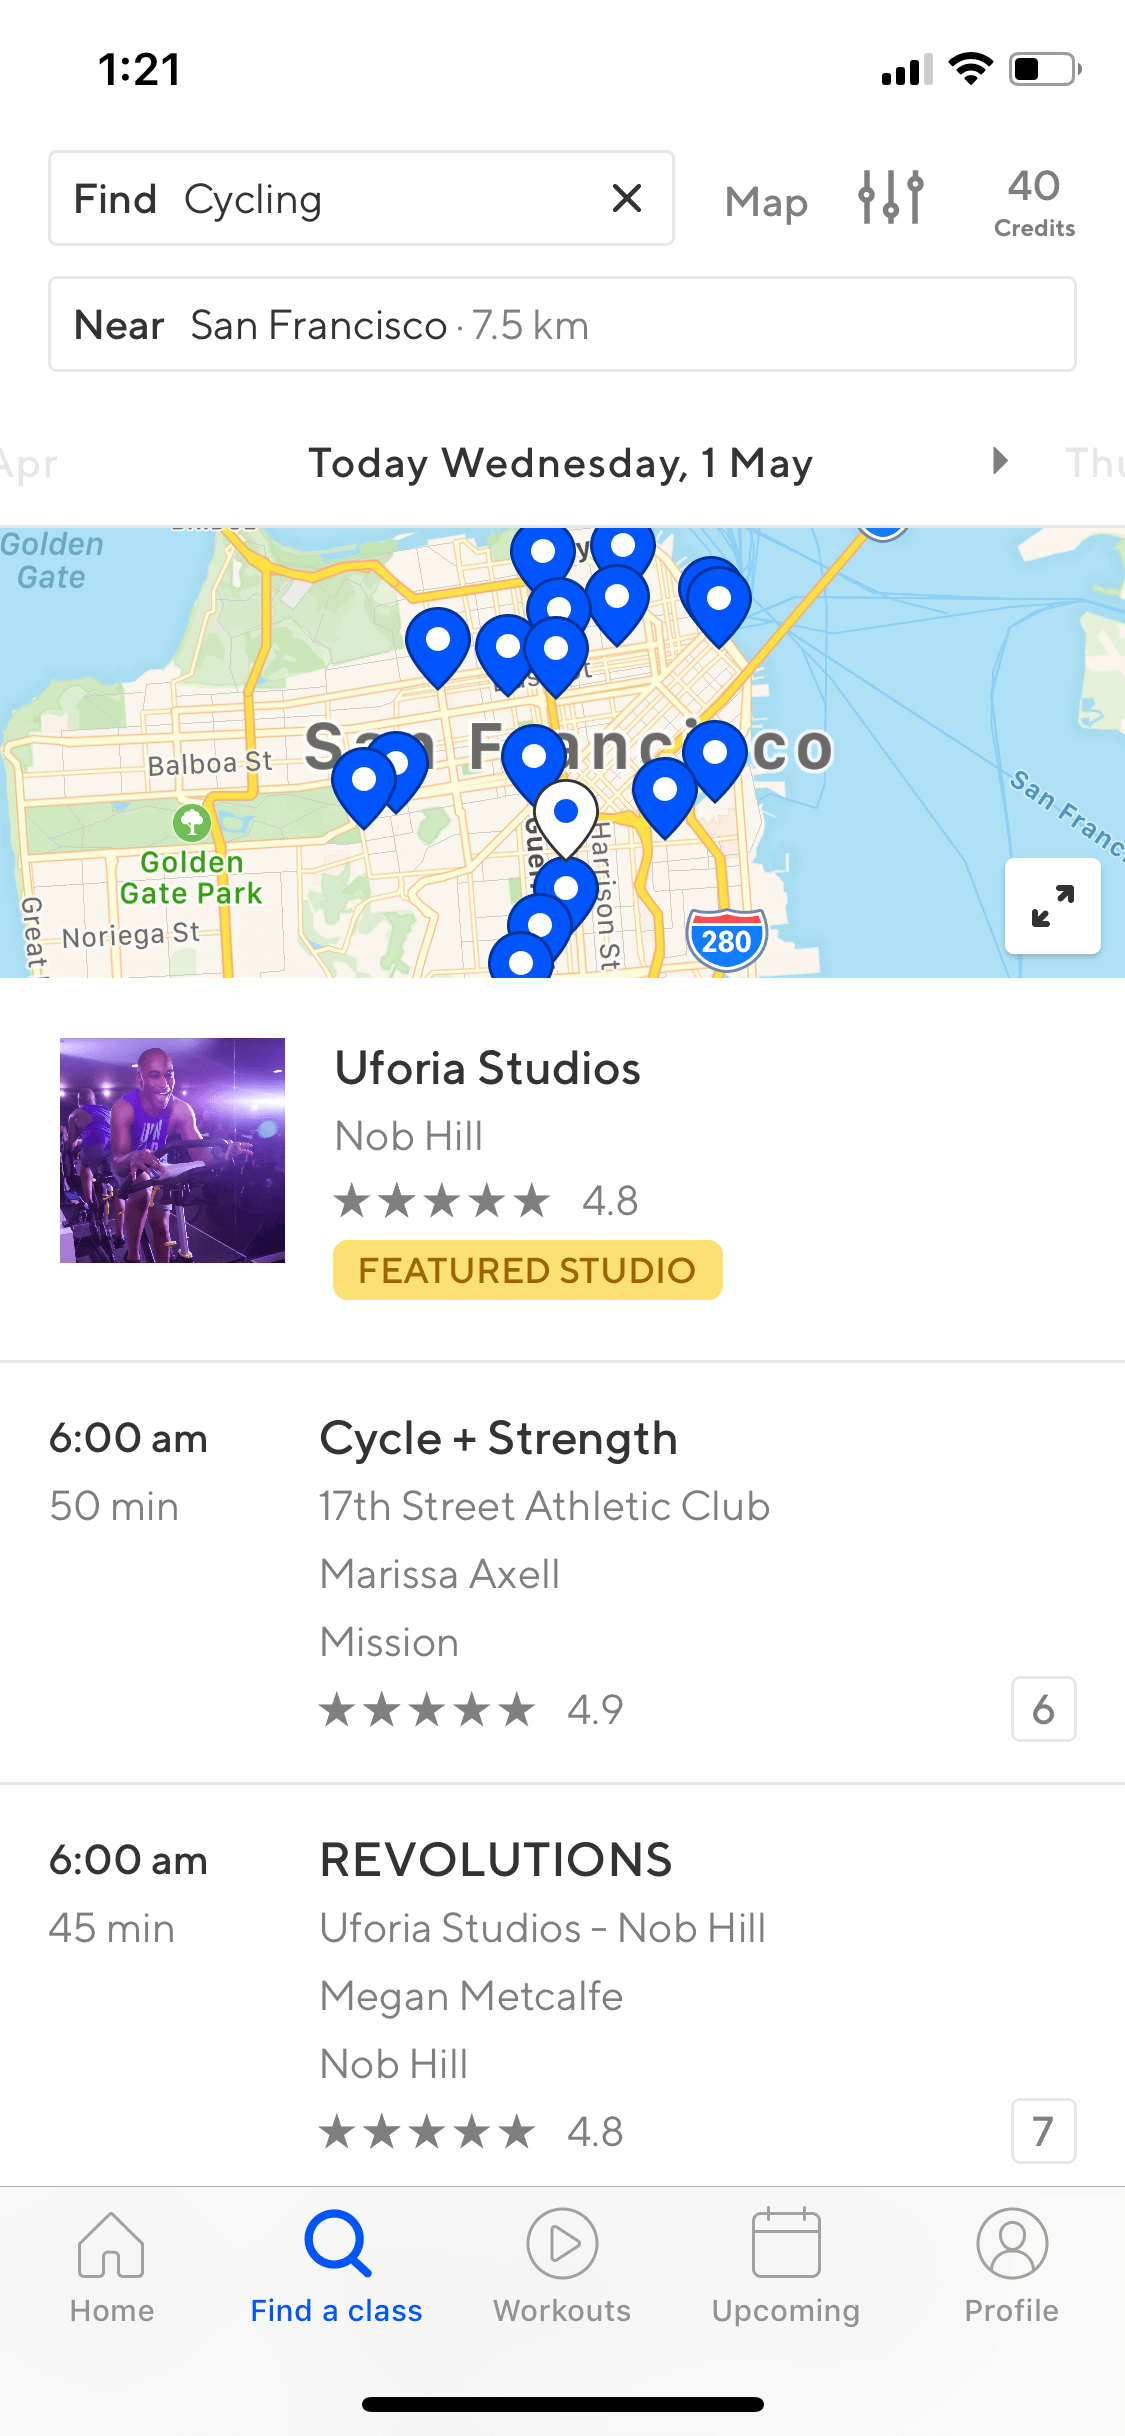Buttons: (709, 148, 822, 255), (985, 148, 1088, 253), (844, 149, 939, 247)
FAB (Floating Action Button): (994, 847, 1111, 962)
Rating: (311, 2096, 636, 2163), (319, 1168, 664, 1226), (306, 1678, 643, 1735)
